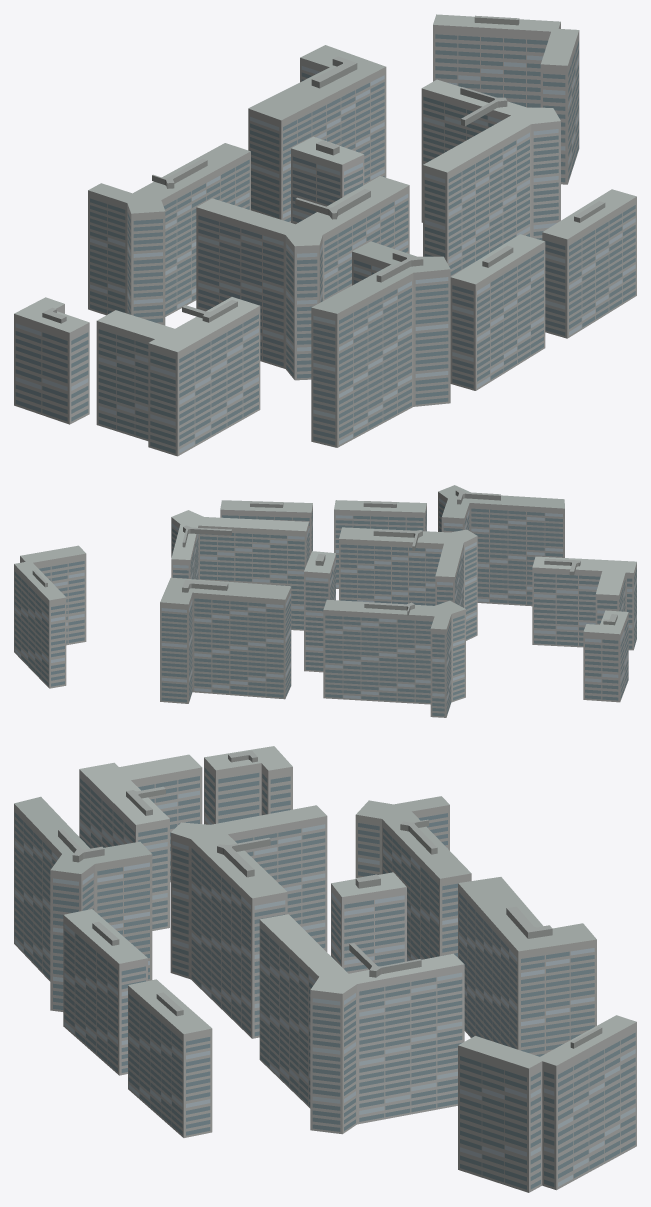
The model's file is apt-a13703027.glb.
3 views of the same model, one above another, from view 1: azimuth 30°, elevation 25°; view 2: azimuth 150°, elevation 25°; view 3: azimuth 270°, elevation 25° (orthographic). The views are drawn at different scales.
Parts seen in each view (by area): view 1: apt-a13703027; view 2: apt-a13703027; view 3: apt-a13703027.
Boxes of the visible parts, bbox=[...] form: apt-a13703027: bbox=[14, 14, 636, 456]; apt-a13703027: bbox=[14, 485, 636, 717]; apt-a13703027: bbox=[14, 746, 636, 1192].
Size of the model in its own units: 277 by 54 by 208.
